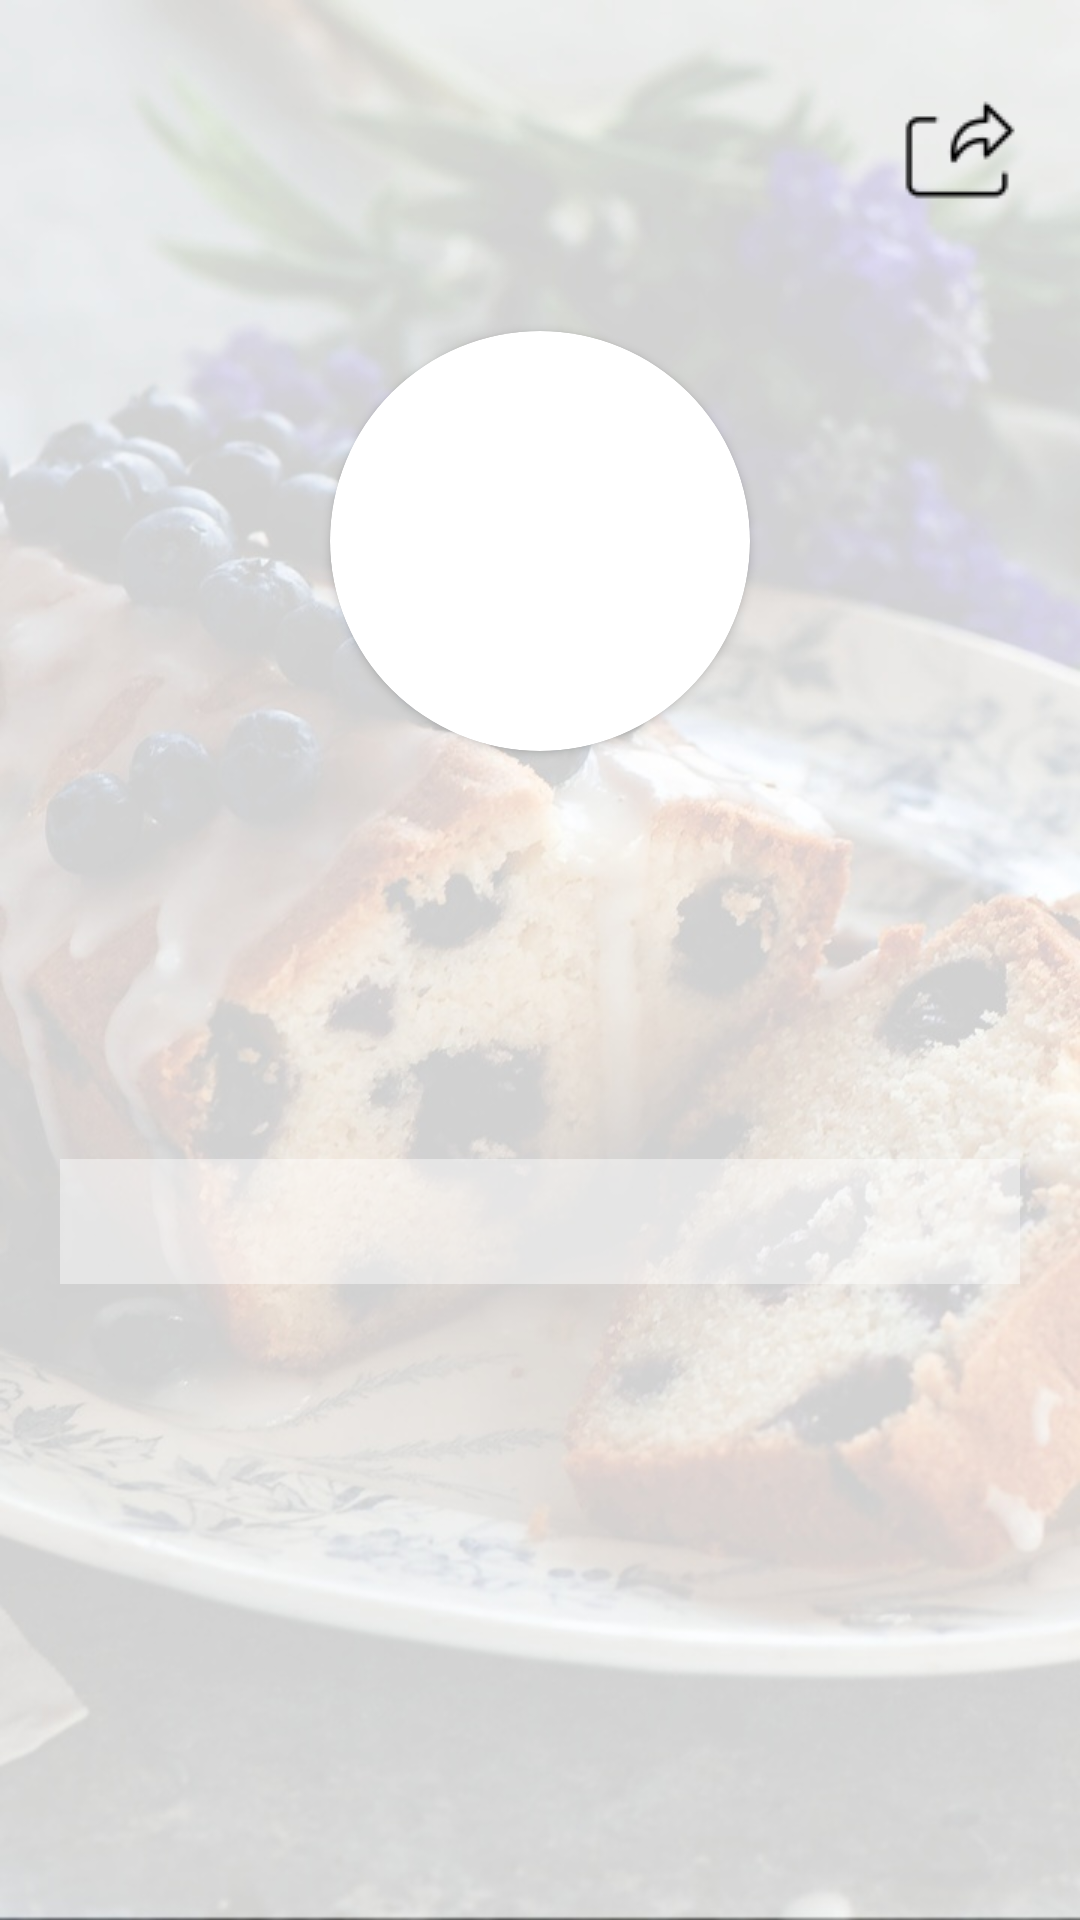

Named icons in this screenshot (1080px×1920px) and their centers, (x,y):
share: (958,155)
